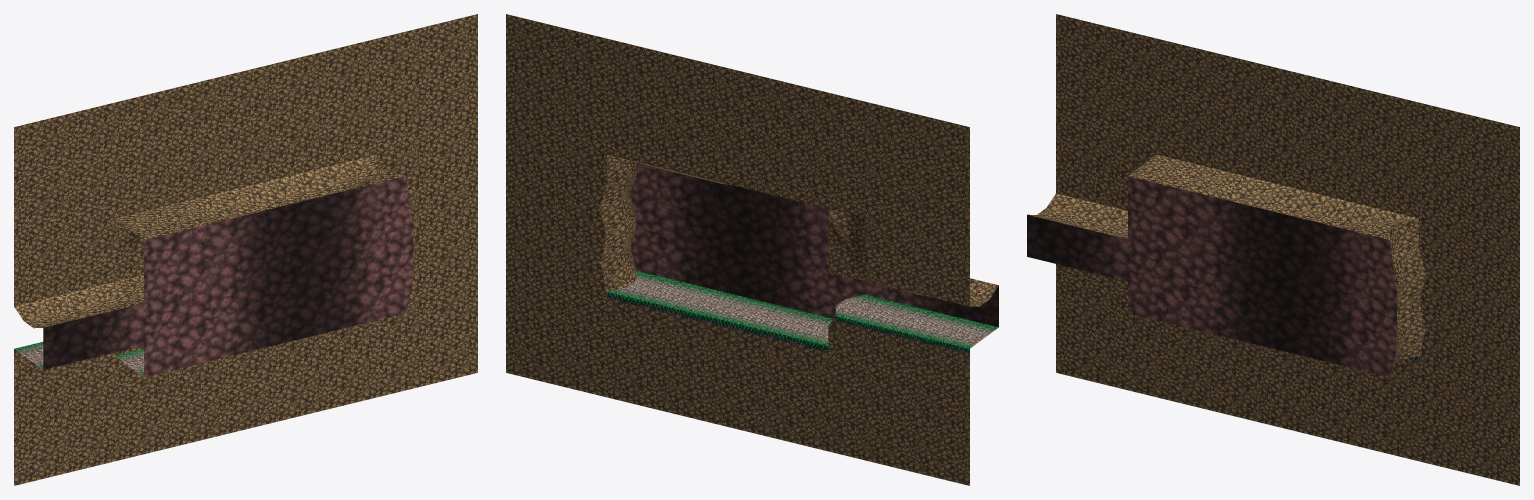
Rendered from Area2_Room10.fbx.
3 renders of one model, left to right at view 1: azimuth 30°, elevation 25°; view 2: azimuth 150°, elevation 25°; view 3: azimuth 330°, elevation 25°, orthographic.
Visible parts, largest first — view 1: pCube75; view 2: pCube75; view 3: pCube75.
Part boxes in pixels (x1=…): pCube75: x1=14, y1=14, x2=477, y2=485; pCube75: x1=506, y1=14, x2=998, y2=485; pCube75: x1=1027, y1=14, x2=1519, y2=485.
Size of the model in its own units: 46 by 34 by 5.
